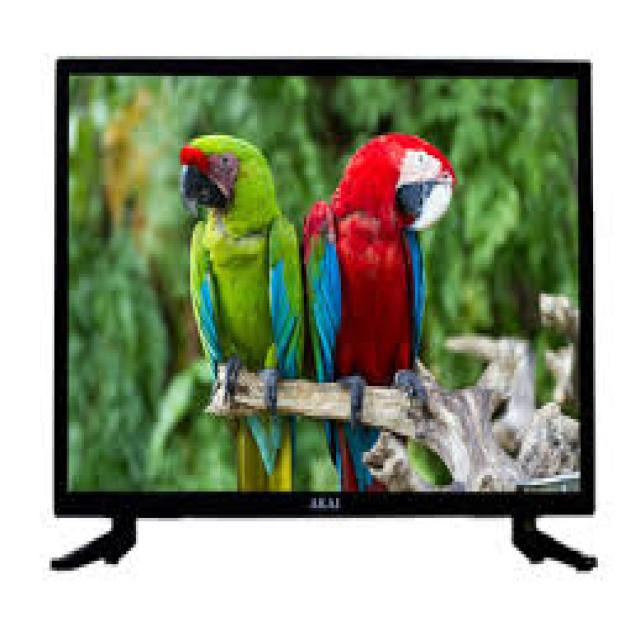tv: (51, 46, 610, 532)
